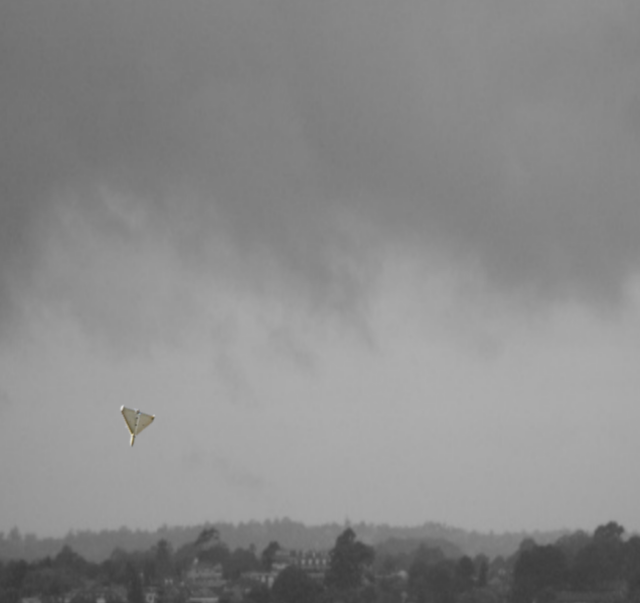military drone: (119, 404, 155, 447)
